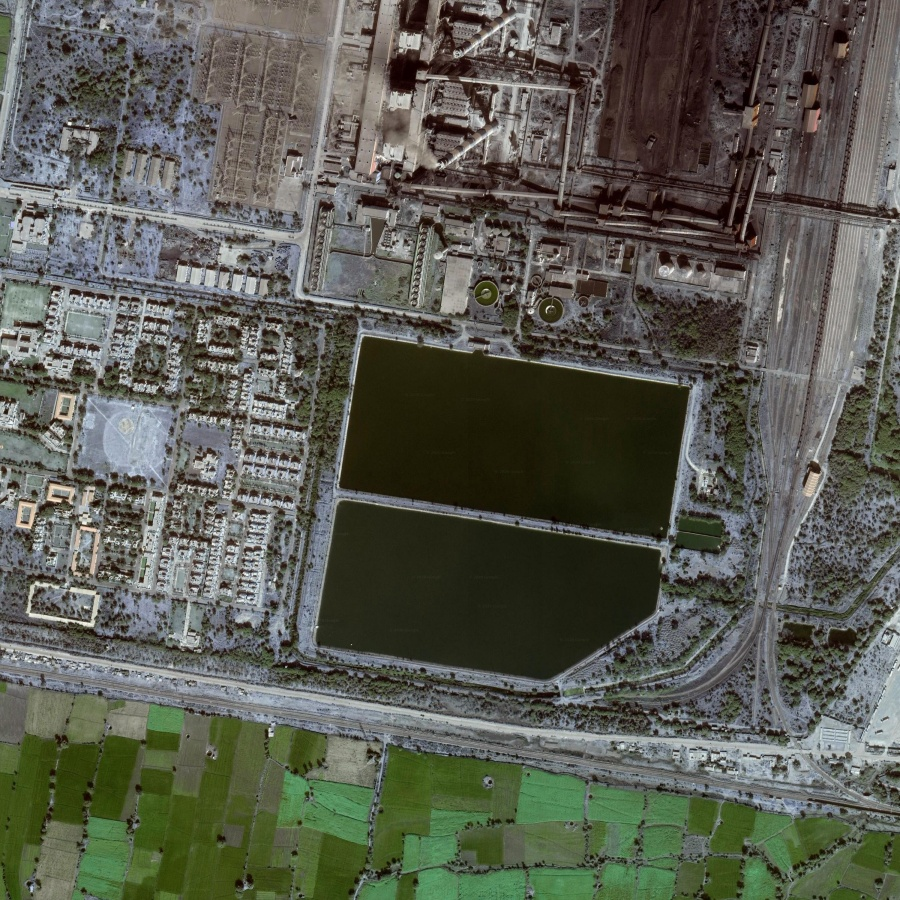PowerPlant: (287, 304, 707, 710)
